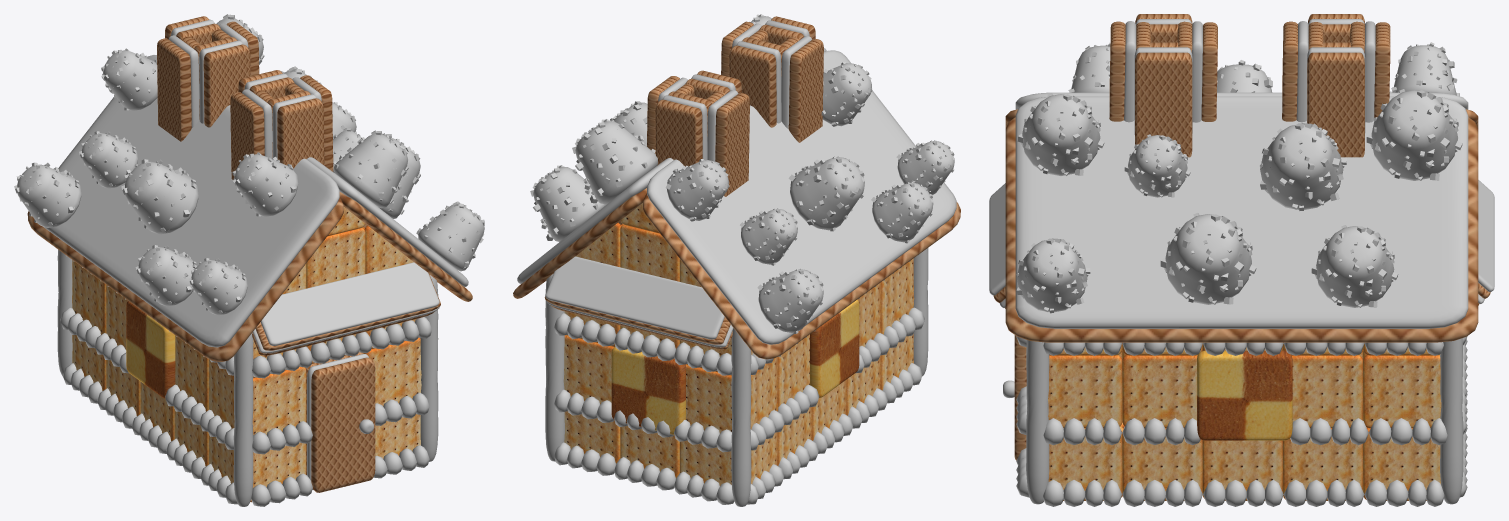
File: cw_house_10.fbx
3 renders of one model, left to right at view 1: azimuth 30°, elevation 25°; view 2: azimuth 150°, elevation 25°; view 3: azimuth 270°, elevation 25°, orthographic. The views are drawn at different scales.
Visible parts, largest first — view 1: cw_house_10; view 2: cw_house_10; view 3: cw_house_10.
Part boxes in pixels (x1,y1,x2,y2): cw_house_10: (14,14,484,506); cw_house_10: (513,14,960,506); cw_house_10: (989,14,1494,506).
Bounding box in the file's own units: 570 × 624 × 680.
